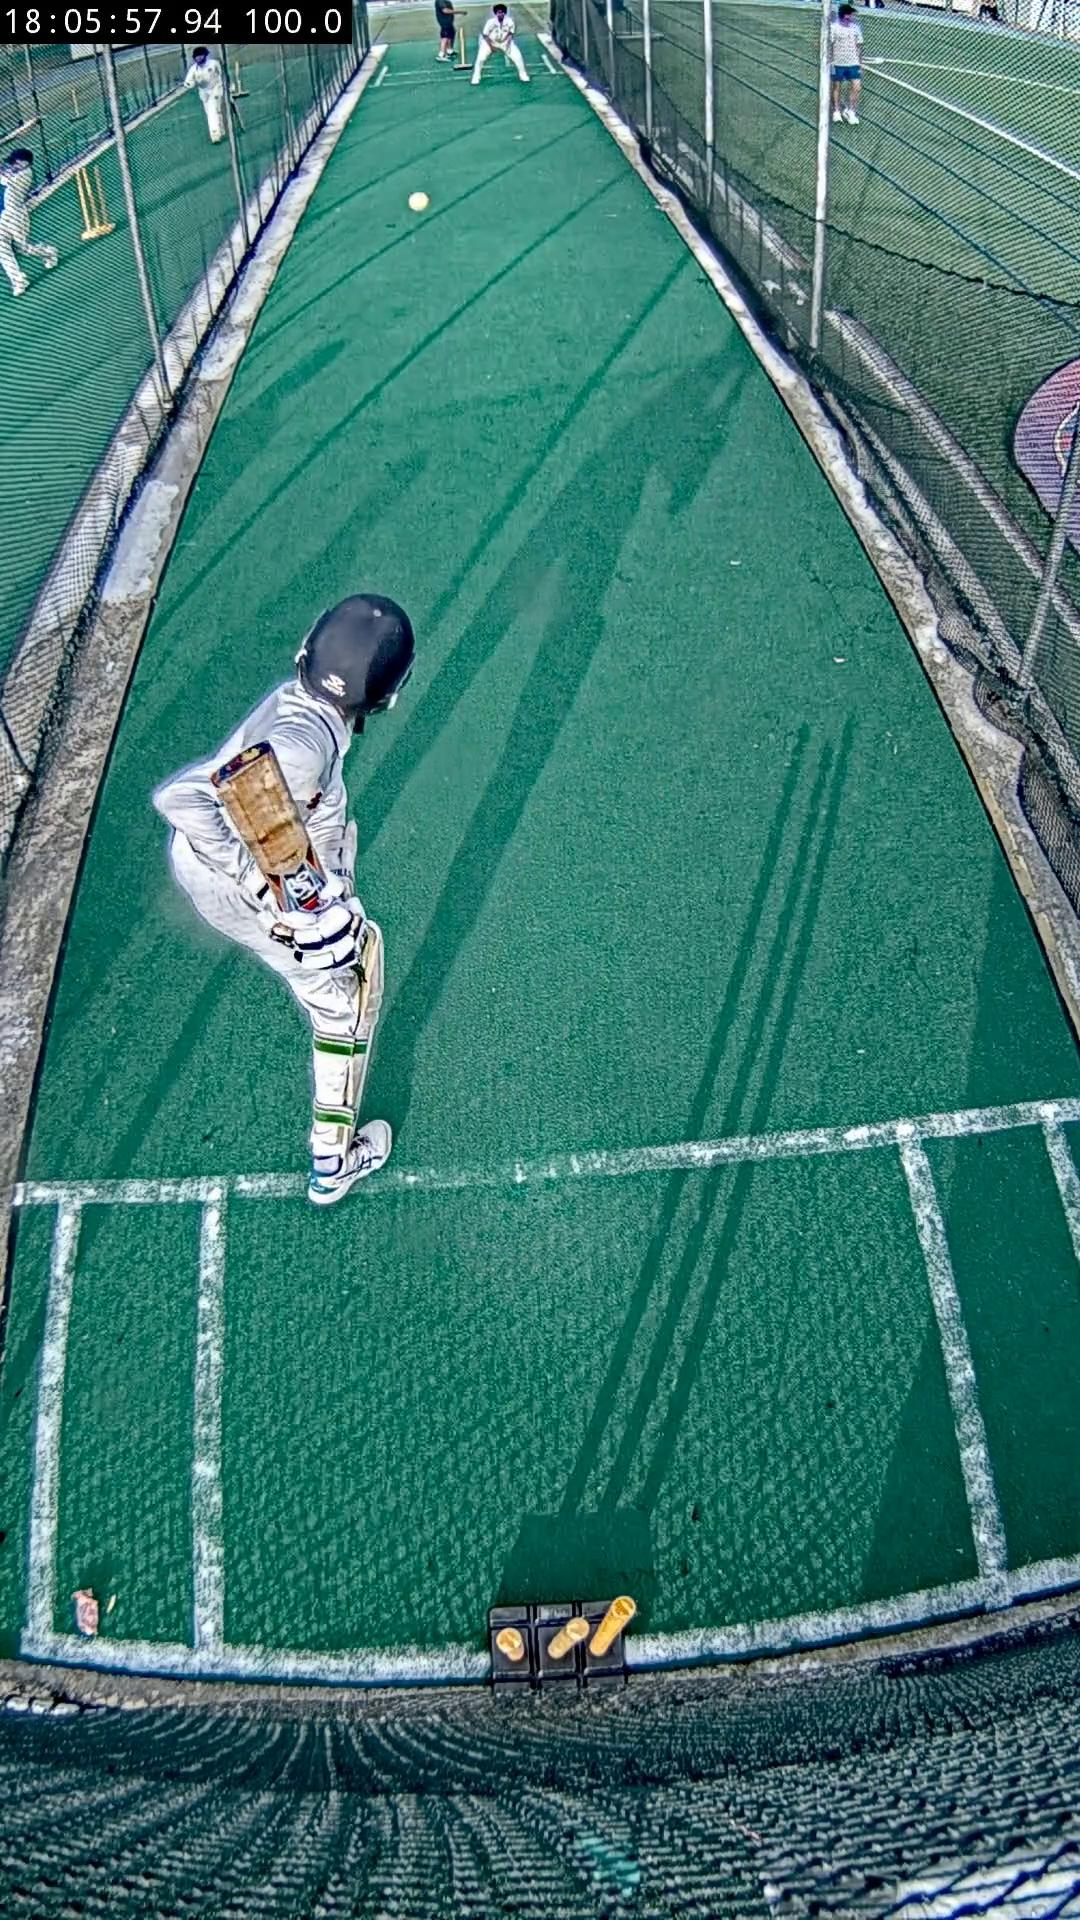ball: (409, 191, 427, 210)
bat: (210, 742, 326, 911)
gloves: (262, 899, 364, 972)
helmet: (297, 592, 413, 721)
pads: (348, 923, 382, 1110)
stumps: (488, 1594, 637, 1688)
